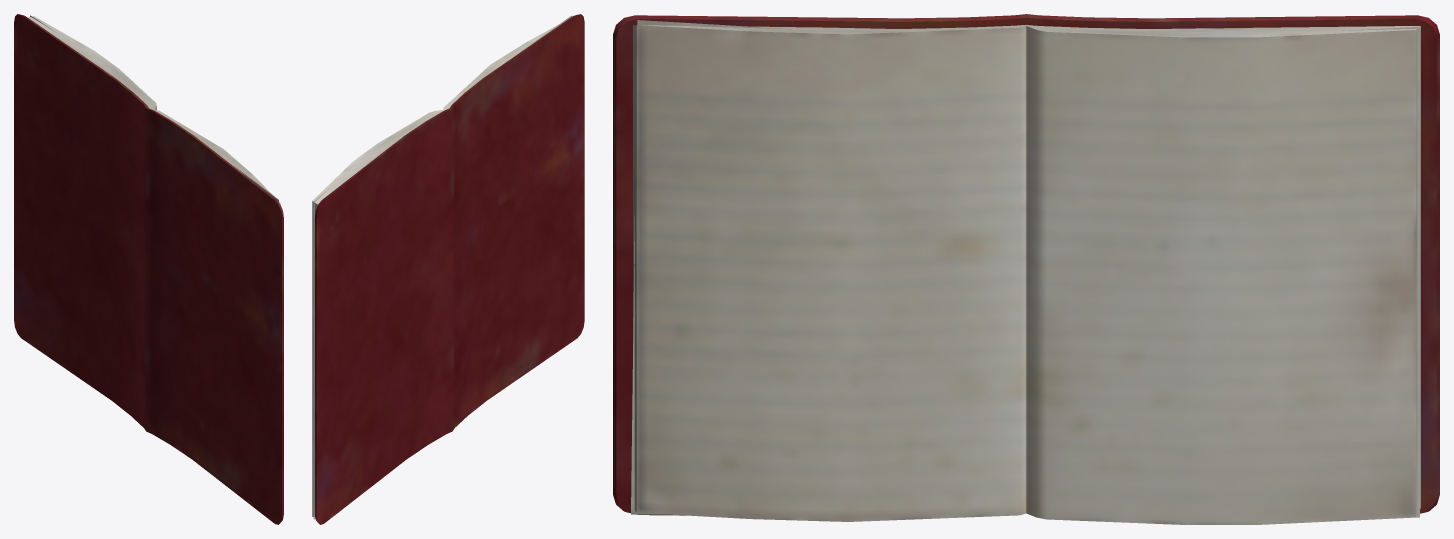
Rendered from cahiernotesmini.gltf.
3 views of the same model, side by side, from view 1: azimuth 30°, elevation 25°; view 2: azimuth 150°, elevation 25°; view 3: azimuth 270°, elevation 25° (orthographic). The views are drawn at different scales.
Parts seen in each view (by area): view 1: Notebook_50; view 2: Notebook_50; view 3: Notebook_50.
Boxes of the visible parts, x1,y1,x2,y2 form: Notebook_50: [14, 14, 283, 524]; Notebook_50: [312, 14, 584, 524]; Notebook_50: [613, 14, 1439, 524].
Bounding box in the file's own units: 0.0114 × 0.1483 × 0.2229.
Materials: 1 (1 with a texture image).
